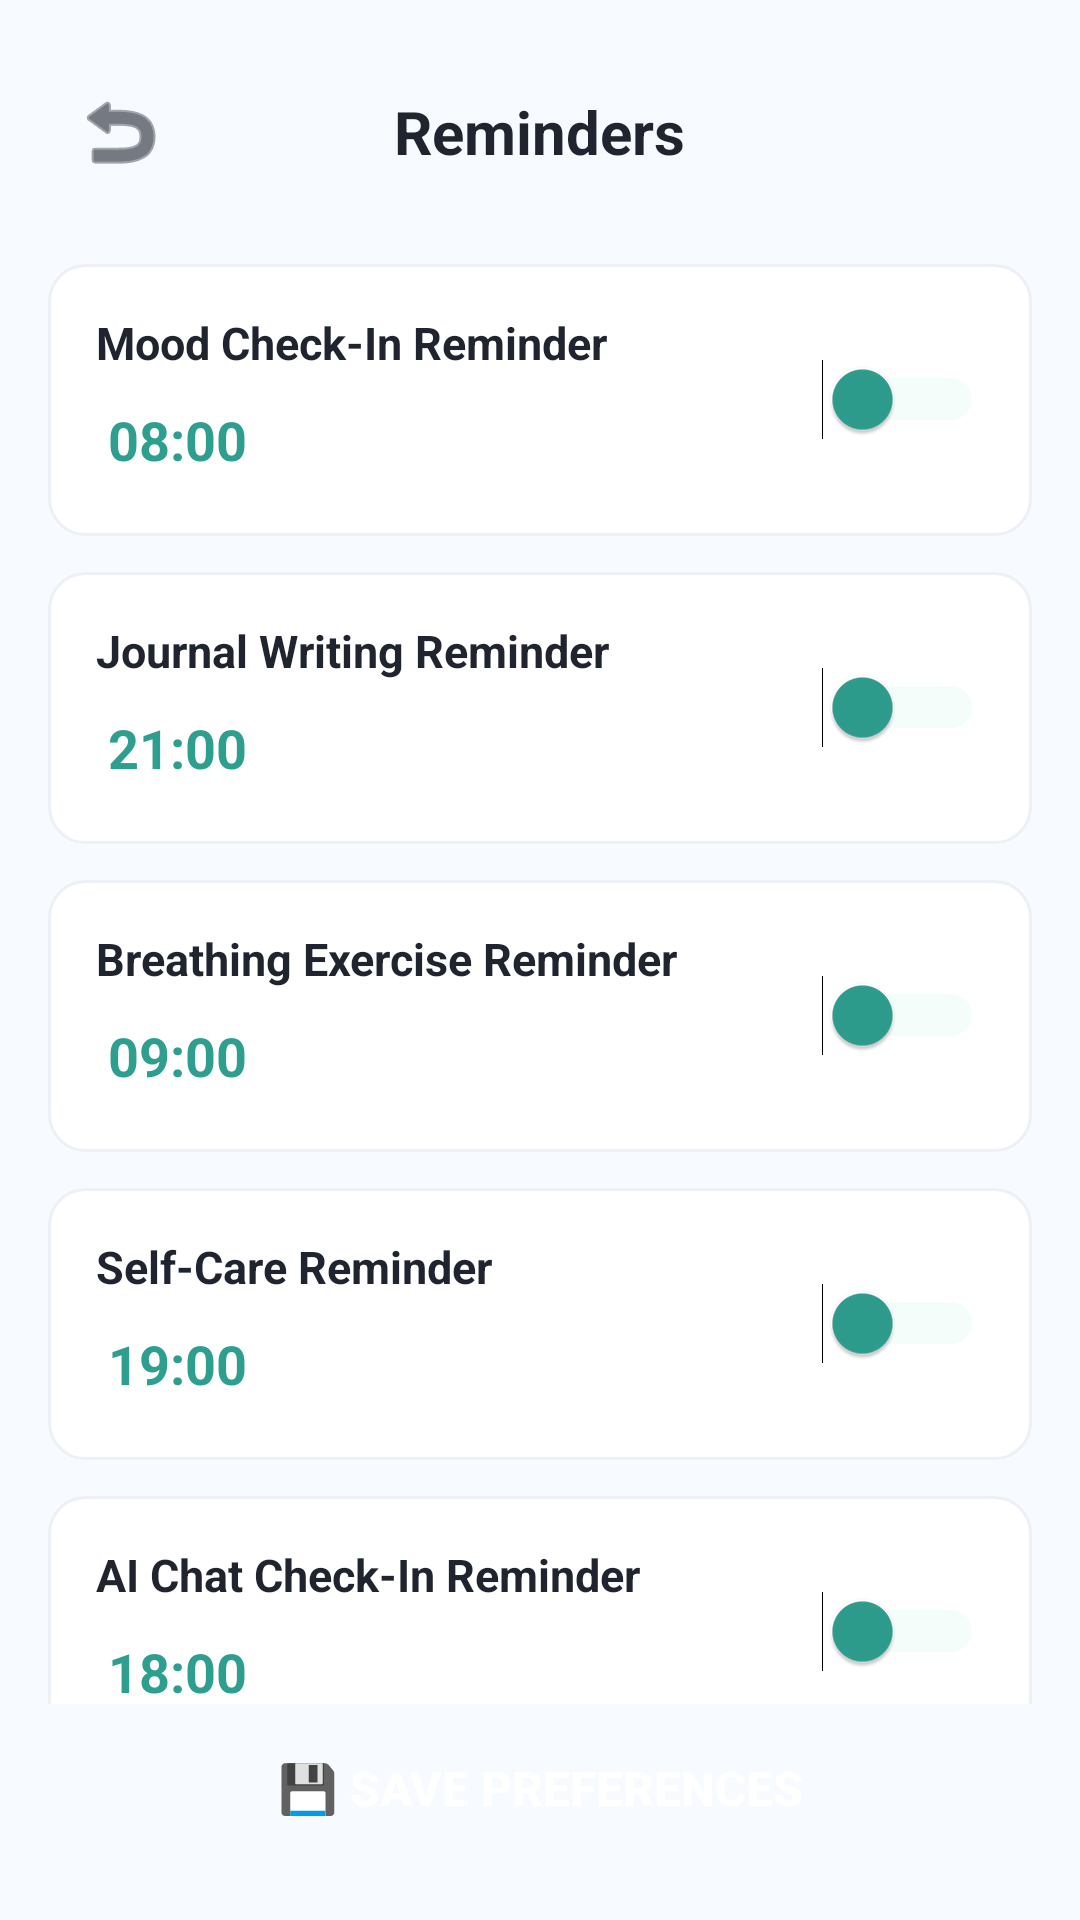

Screen size 1080x1920. Icon name, then its box in pixels as (x1,y1,x2,y2):
Back: (87,101,156,164)
